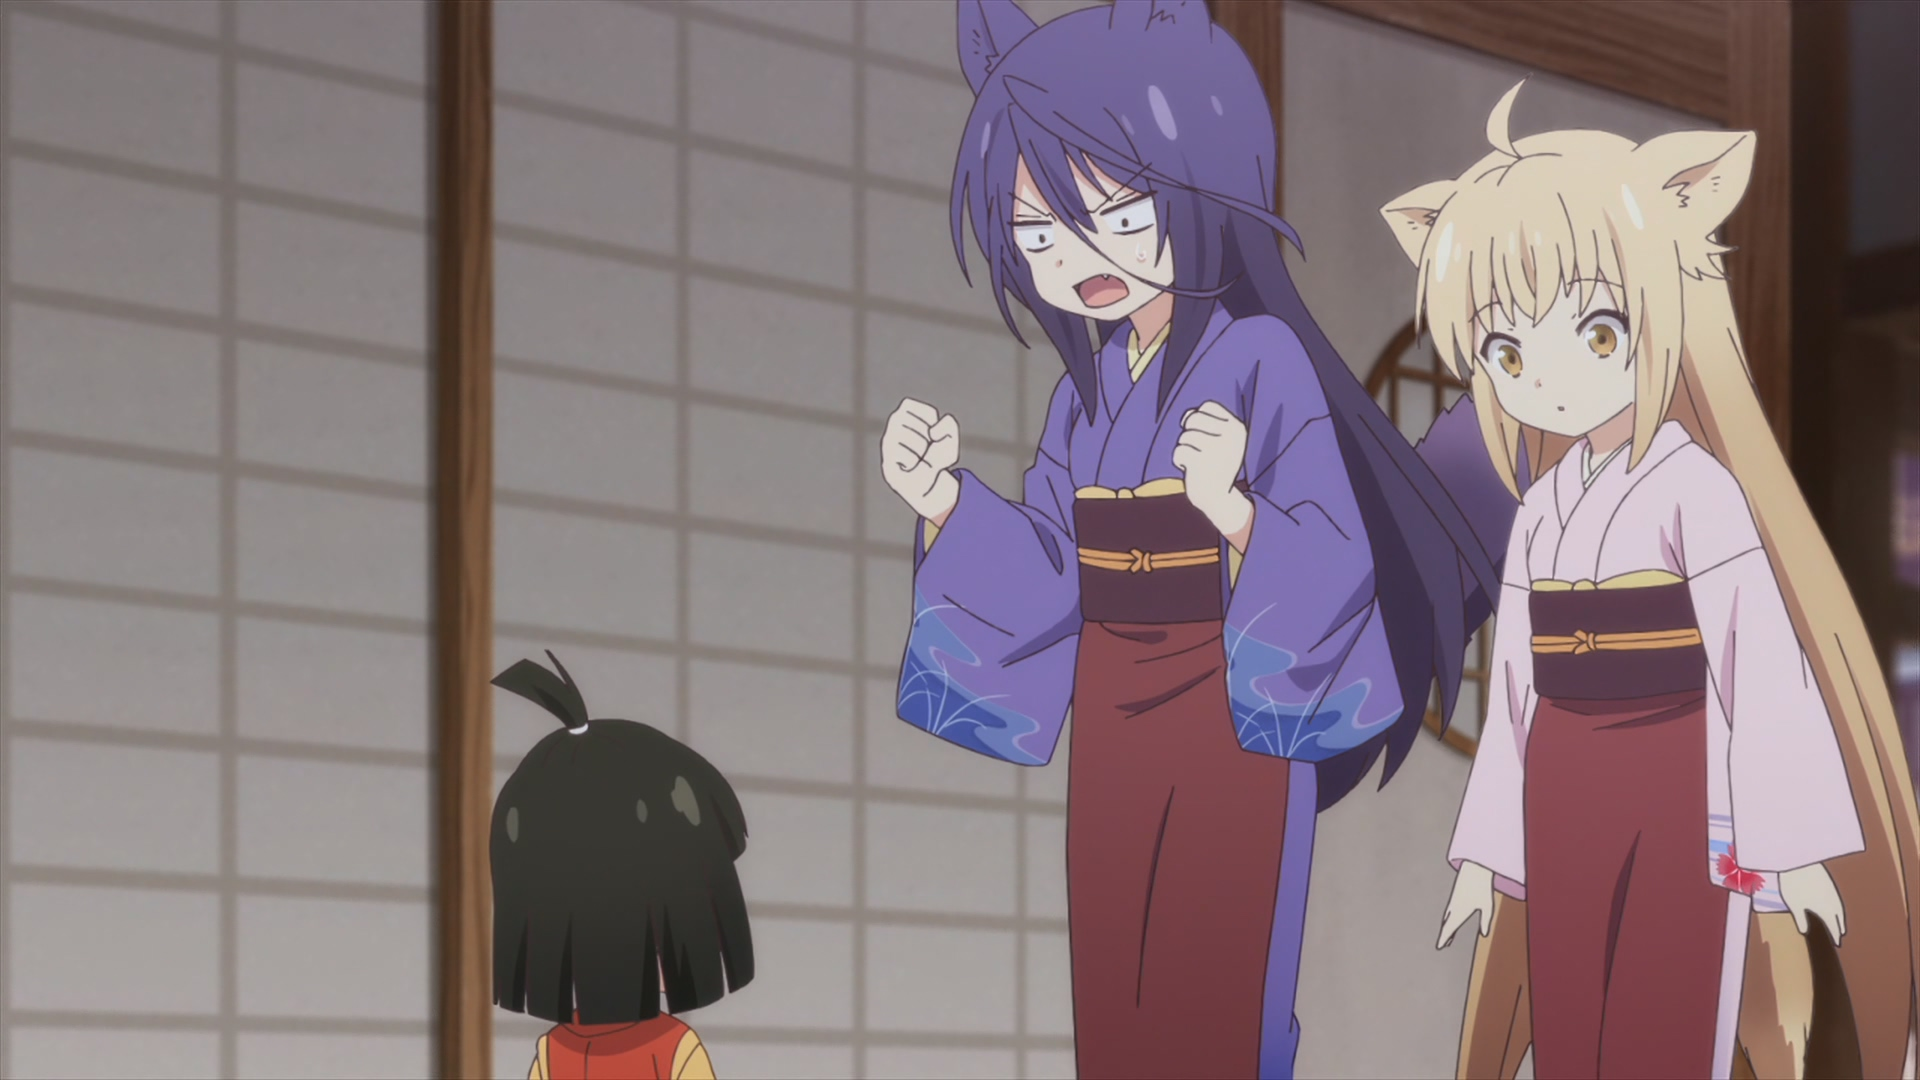其他: (488, 649, 757, 1080)
柚: (1377, 80, 1920, 1080)
皋: (880, 1, 1524, 1080)
